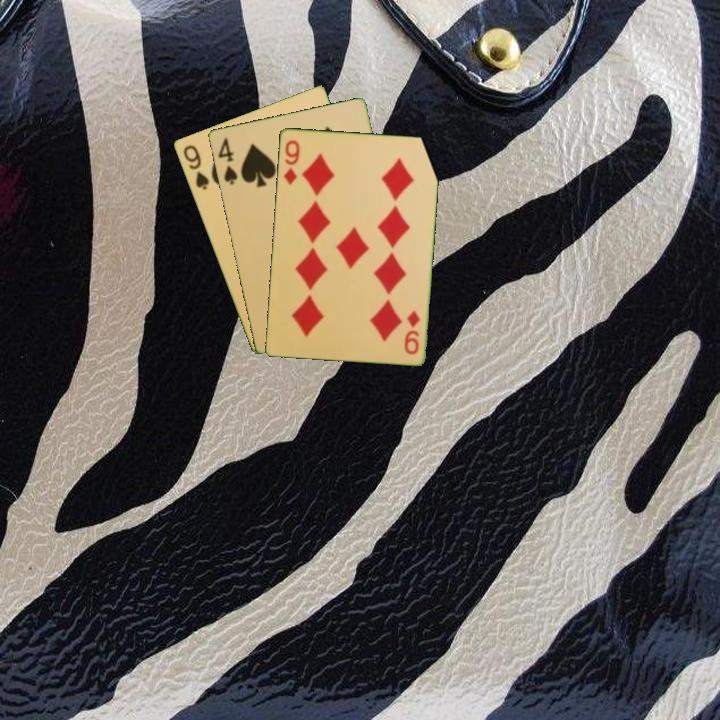4s: (214, 134, 240, 187)
9d: (280, 136, 302, 188), (400, 306, 422, 357)
9s: (179, 141, 212, 193)
